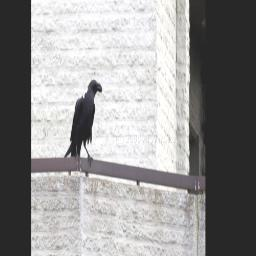Crow: (63, 77, 103, 175)
